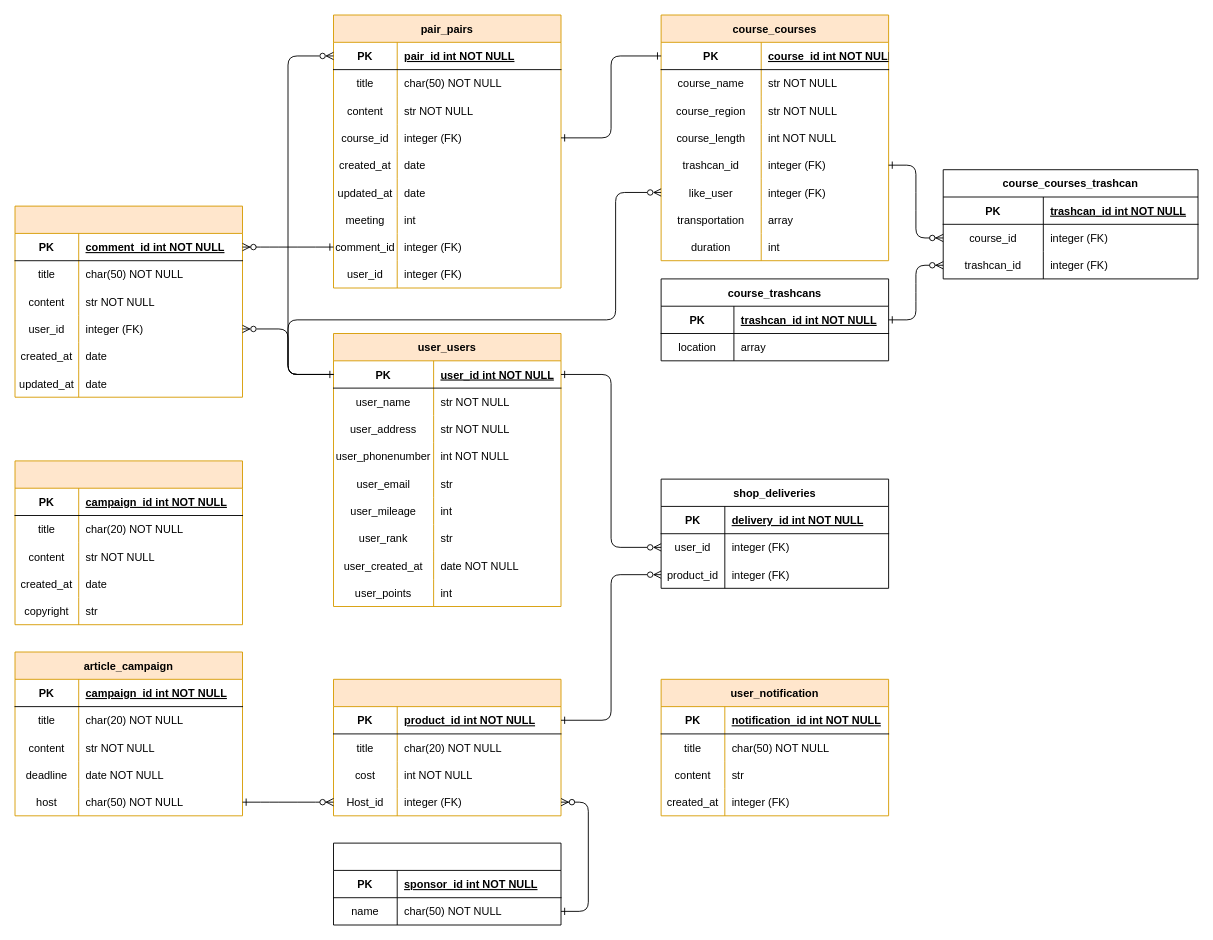
This 1213x940 diagram has some shape labels left out. Here are the shapes that lost their labels. From the top down, the box of each, then its label:
(14, 205, 243, 397): pair_comments
(14, 460, 243, 625): article_news
(333, 678, 561, 816): shop_products
(333, 842, 561, 925): shop_sponsor
